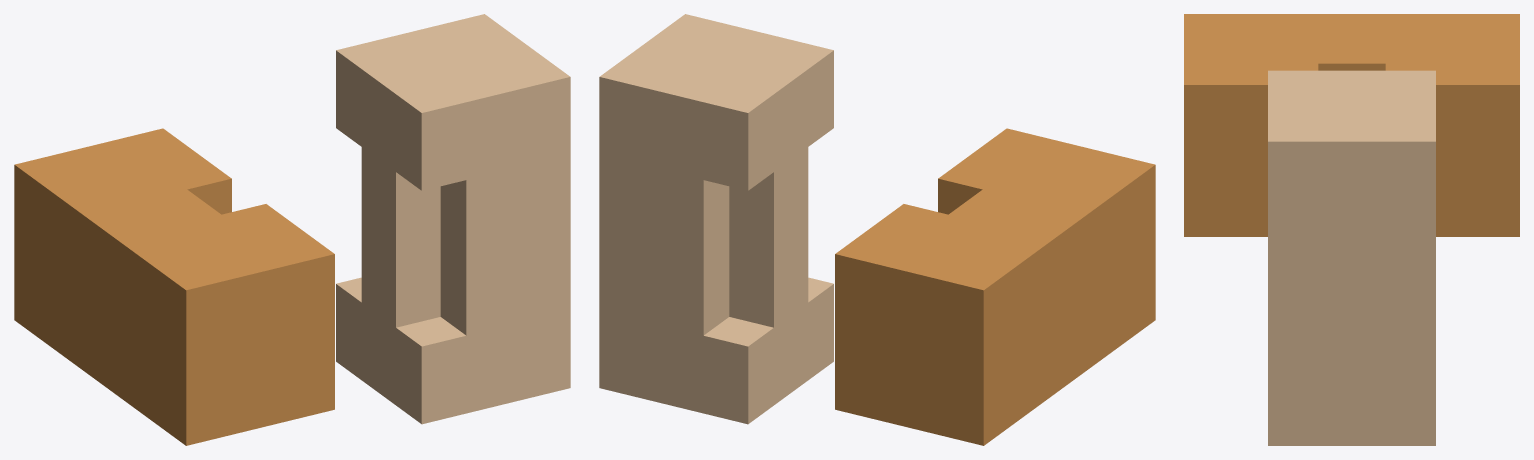
3 renders of one model, left to right at view 1: azimuth 30°, elevation 25°; view 2: azimuth 150°, elevation 25°; view 3: azimuth 270°, elevation 25°, orthographic. The views are drawn at different scales.
Size of the model in its own units: 2.87 by 2 by 2.
